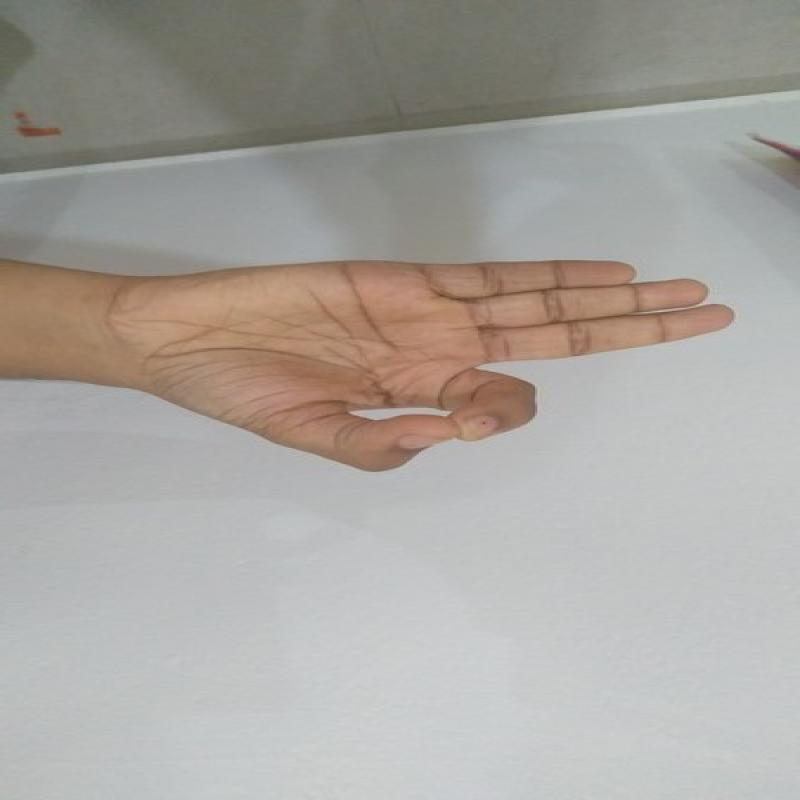Mudraakhyam: (100, 245, 746, 481)
